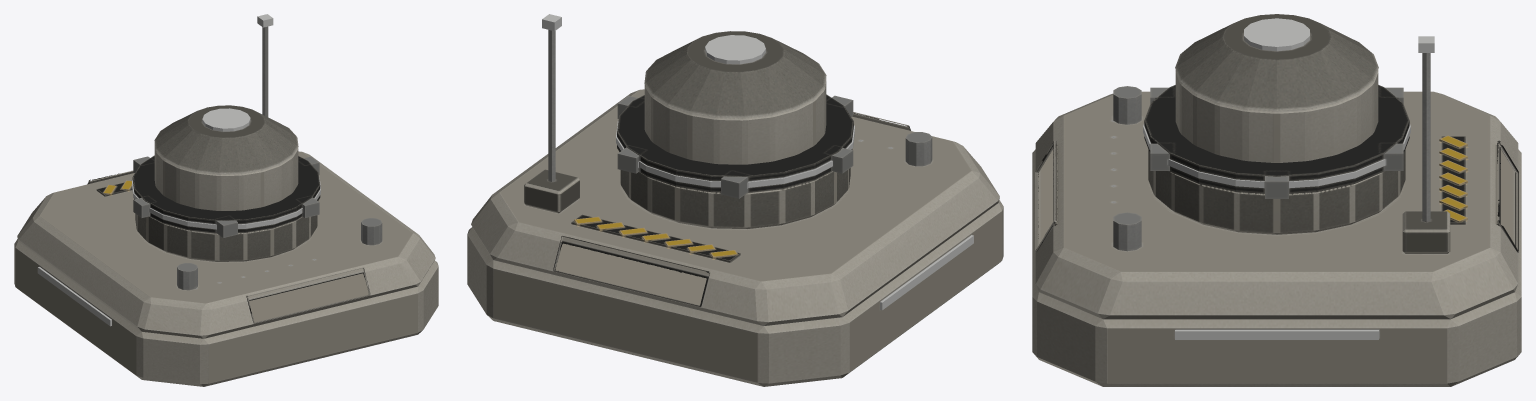
File: ord_ear.fbx
3 views of the same model, side by side, from view 1: azimuth 30°, elevation 25°; view 2: azimuth 150°, elevation 25°; view 3: azimuth 270°, elevation 25° (orthographic). The views are drawn at different scales.
Visible parts, largest first — view 1: base_bar, ring_bar, base_glow_power_bar, ring_glow_power_bar, base_glow_running_bar; view 2: base_bar, ring_bar, base_glow_power_bar, ring_glow_power_bar, base_glow_running_bar; view 3: base_bar, ring_bar, base_glow_running_bar, base_glow_power_bar, ring_glow_power_bar.
Part boxes in pixels (x1=…): base_bar: x1=14, y1=26, x2=438, y2=386; ring_bar: x1=132, y1=155, x2=320, y2=237; base_glow_power_bar: x1=202, y1=108, x2=250, y2=131; ring_glow_power_bar: x1=132, y1=176, x2=320, y2=229; base_glow_running_bar: x1=37, y1=14, x2=273, y2=326; base_bar: x1=467, y1=30, x2=1003, y2=386; ring_bar: x1=617, y1=94, x2=853, y2=198; base_glow_power_bar: x1=705, y1=35, x2=765, y2=64; ring_glow_power_bar: x1=616, y1=121, x2=854, y2=187; base_glow_running_bar: x1=542, y1=14, x2=973, y2=310; base_bar: x1=1032, y1=14, x2=1521, y2=386; ring_bar: x1=1144, y1=85, x2=1409, y2=198; base_glow_running_bar: x1=1175, y1=36, x2=1434, y2=339; base_glow_power_bar: x1=1244, y1=18, x2=1309, y2=51; ring_glow_power_bar: x1=1143, y1=123, x2=1410, y2=188.
Bounding box in the file's own units: 729 × 613 × 720.
Materials: 2 (2 with a texture image).
